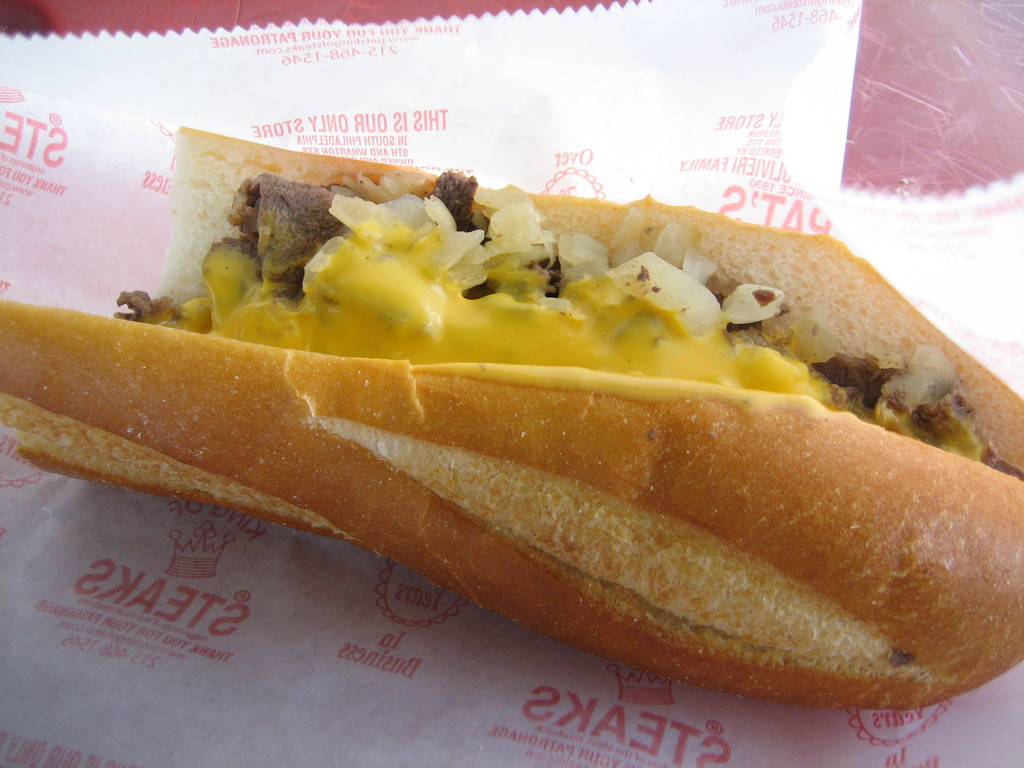hot_dog: (0, 117, 1023, 717)
